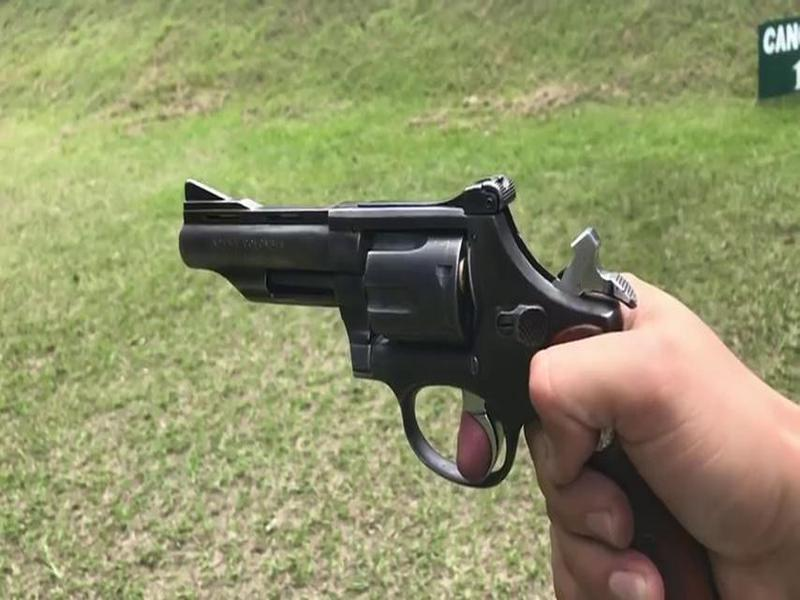Revolver: (137, 151, 637, 504)
